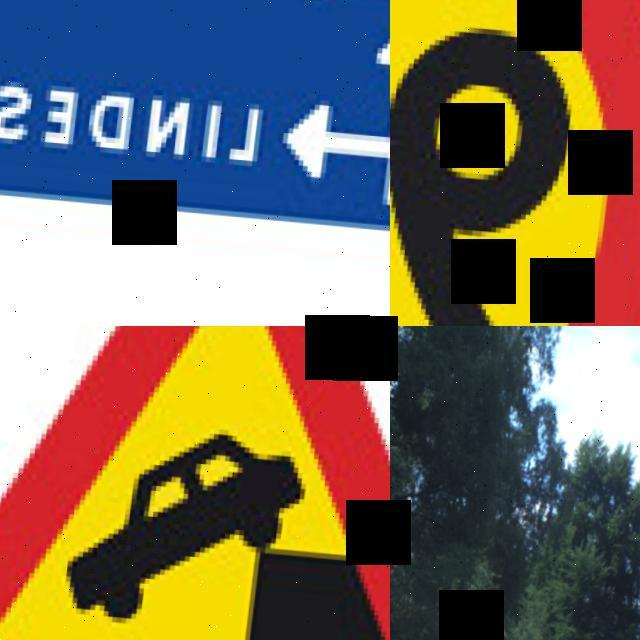145: (0, 326, 390, 640)
83: (0, 0, 390, 235)
speed limit-90: (390, 0, 640, 326)
